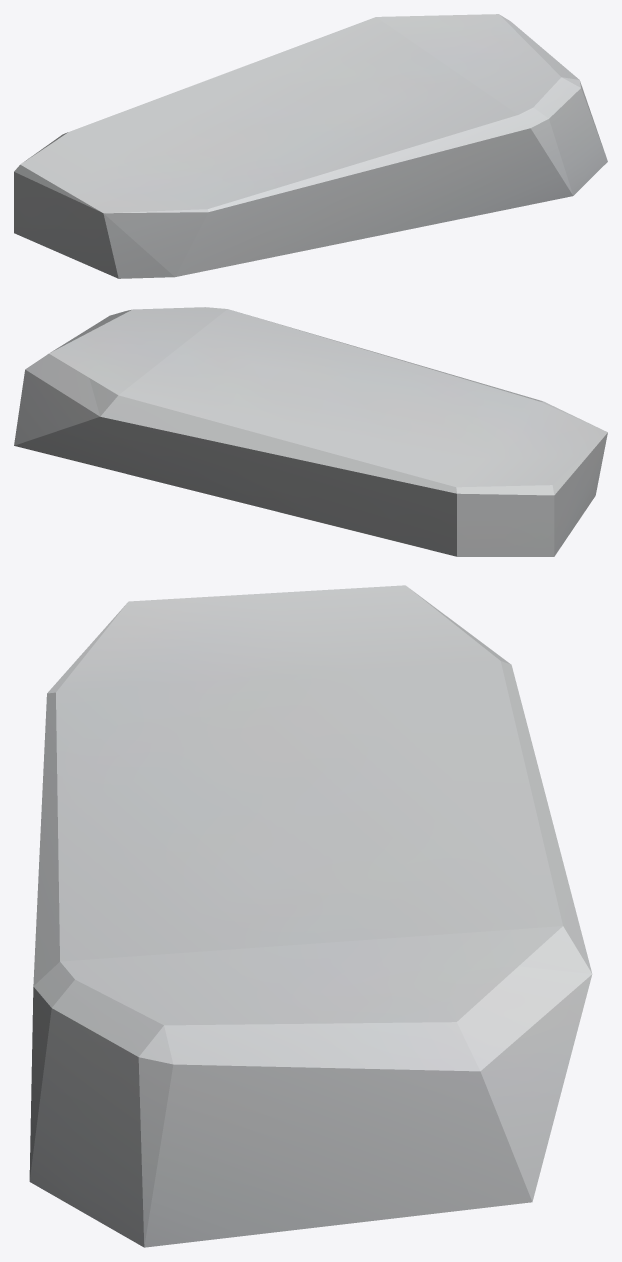
The model's file is Stone_resource.fbx.
3 renders of one model, top to bottom at view 1: azimuth 30°, elevation 25°; view 2: azimuth 150°, elevation 25°; view 3: azimuth 270°, elevation 25°, orthographic. The views are drawn at different scales.
Visible parts, largest first — view 1: stone_resource; view 2: stone_resource; view 3: stone_resource.
Boxes of the visible parts, x1,y1,x2,y2 form: stone_resource: [14, 14, 607, 278]; stone_resource: [14, 307, 607, 556]; stone_resource: [29, 585, 592, 1247].
Bounding box in the file's own units: 0.6566 × 0.118 × 0.3044.
